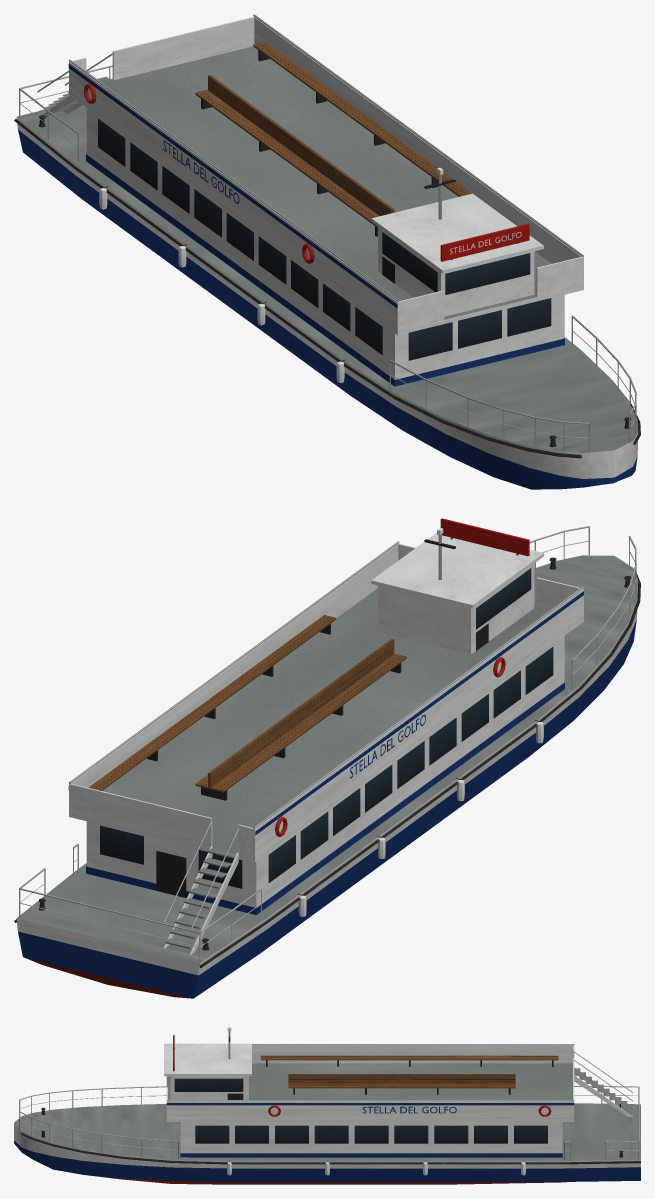
Rendered from SM_Morin_Battello.fbx.
3 renders of one model, top to bottom at view 1: azimuth 30°, elevation 25°; view 2: azimuth 150°, elevation 25°; view 3: azimuth 270°, elevation 25°, orthographic. The views are drawn at different scales.
Parts seen in each view (by area): view 1: SM_Morin_Battello; view 2: SM_Morin_Battello; view 3: SM_Morin_Battello.
Boxes of the visible parts, x1,y1,x2,y2 form: SM_Morin_Battello: (14, 14, 640, 489); SM_Morin_Battello: (14, 518, 640, 998); SM_Morin_Battello: (14, 1027, 640, 1184).
Size of what is drawn, in the model's own units: 754 by 3200 by 827.
1 material, 1 textured.
